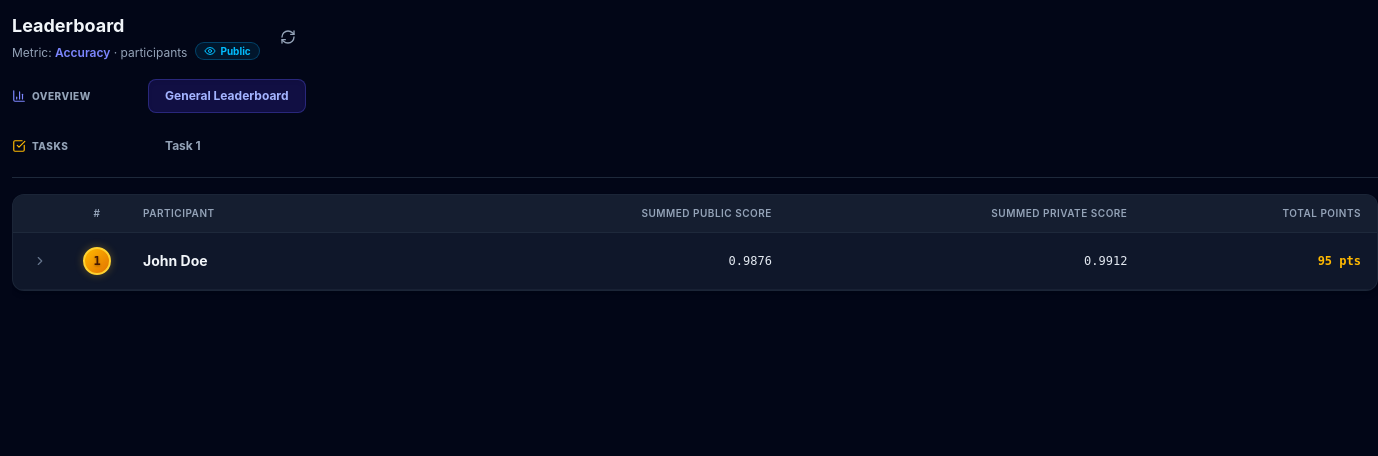
it: LeaderboardTable Component › reveals true identities, school, grade, and private scores when challenge is finalized and row is expanded
Click the button titled "Toggle details" at (40, 261), box 29,250 -> 51,272
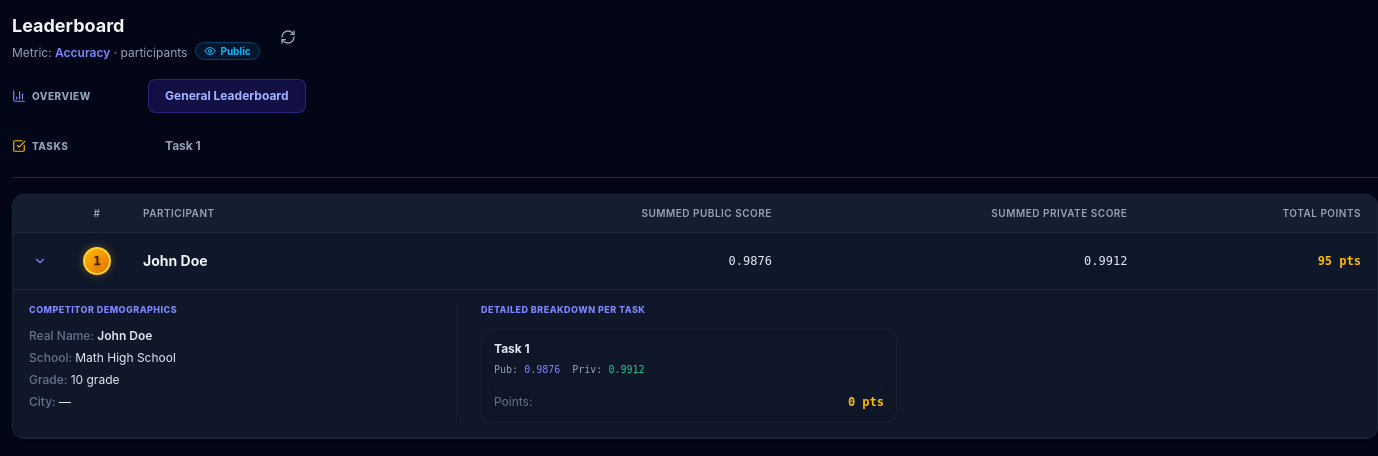
Now the text "School:" is shown, box 29,350 -> 75,365
Now the text "Math High School" is shown, box 75,350 -> 176,365
Now the text "Grade:" is shown, box 29,372 -> 71,387
